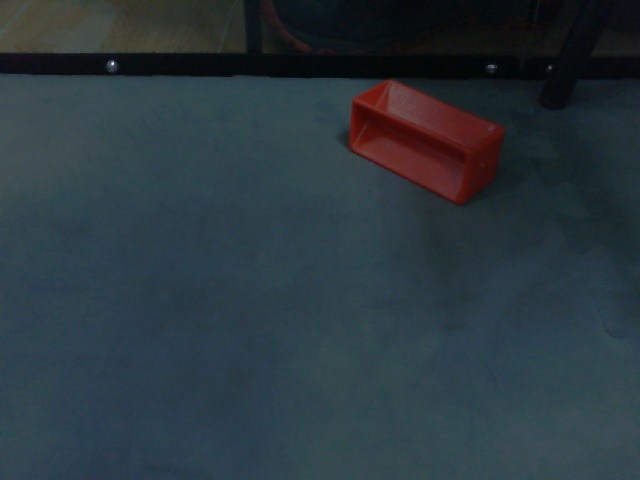RedSample: (346, 78, 509, 208)
